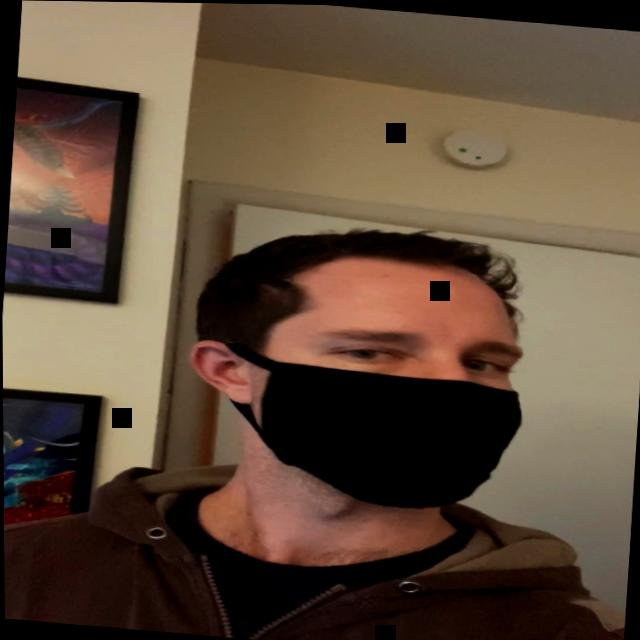Mask: (176, 222, 546, 542)
